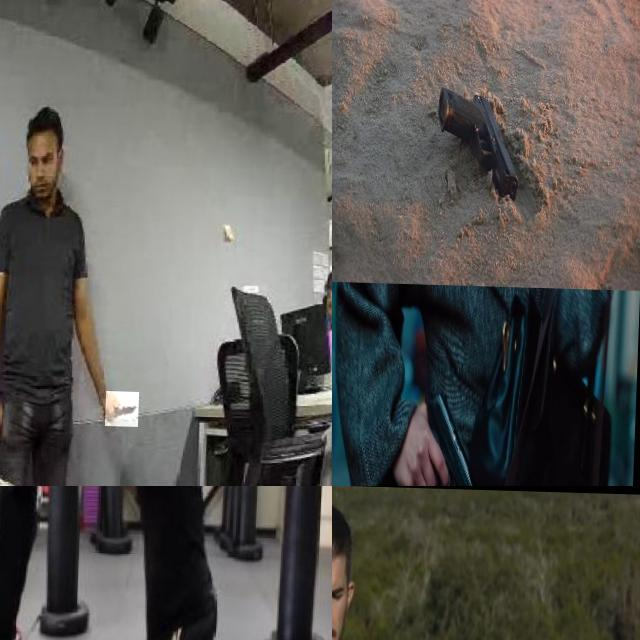-: (34, 486, 112, 523), (109, 389, 143, 425)
gun-knife-thesis - v11 Yolov5 augmented: (332, 302, 477, 486), (332, 0, 416, 271), (424, 380, 523, 486), (434, 81, 520, 199)
